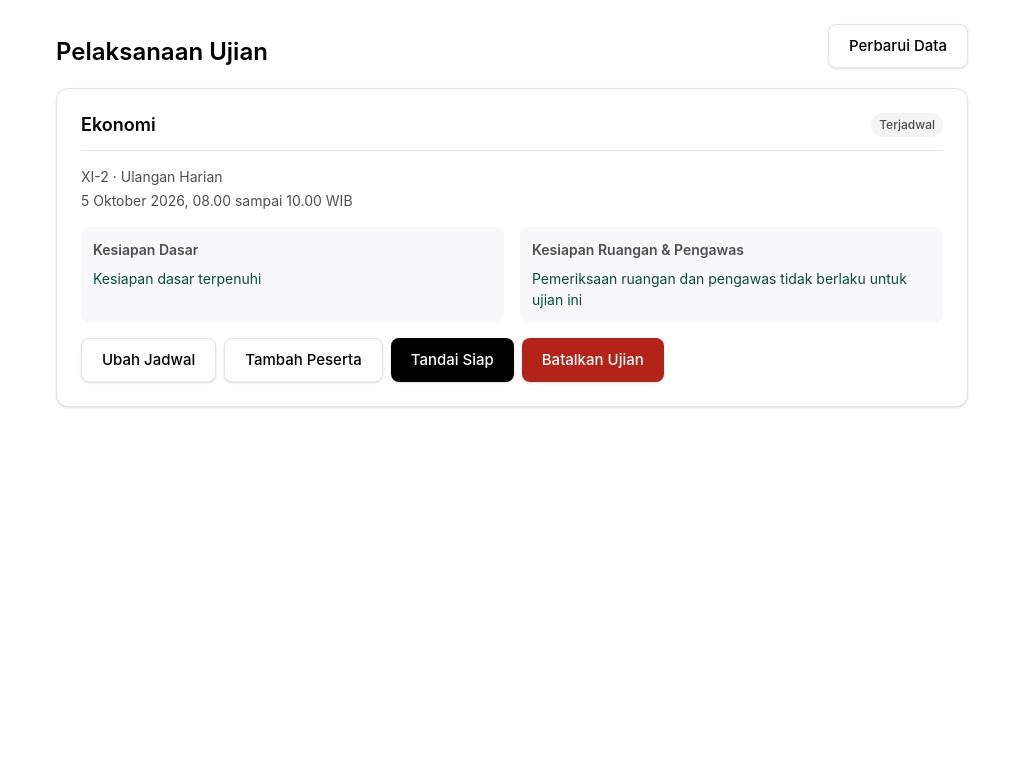
rescheduling on the teacher screen › explains every reason the server gives, keeps the dialog, and keeps the key for the next try
Click the button "Ubah Jadwal": (149, 360) left=81, top=338, right=216, bottom=382
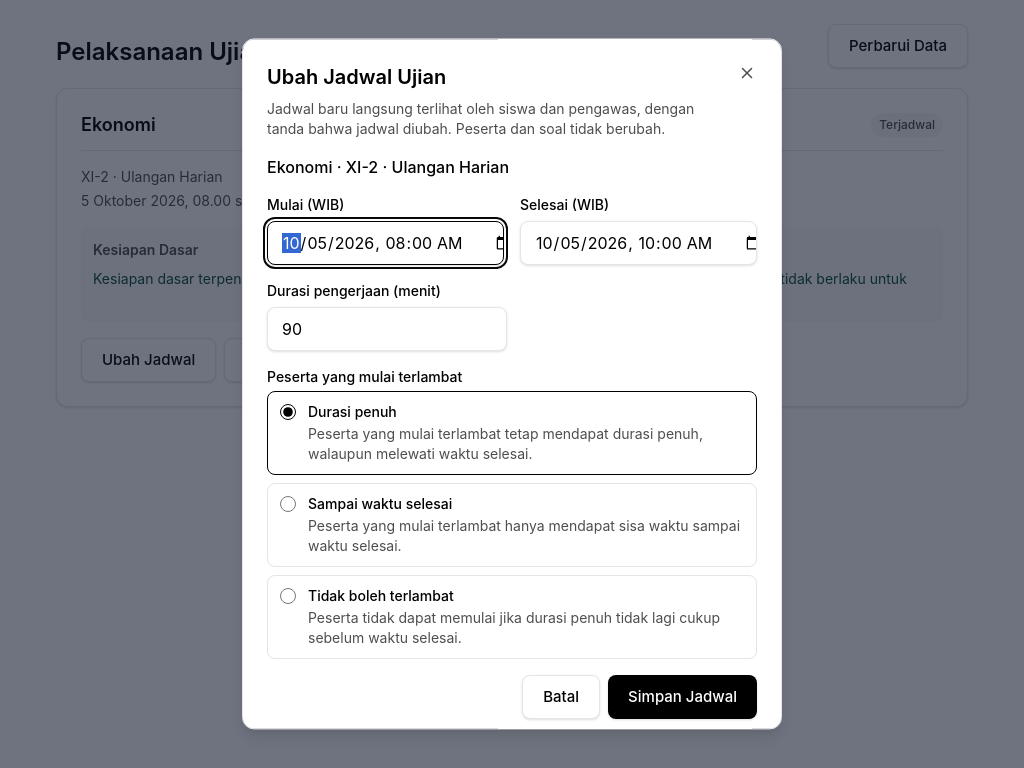
Click the button "Simpan Jadwal": (683, 697) left=608, top=675, right=757, bottom=719
(page scrolled)
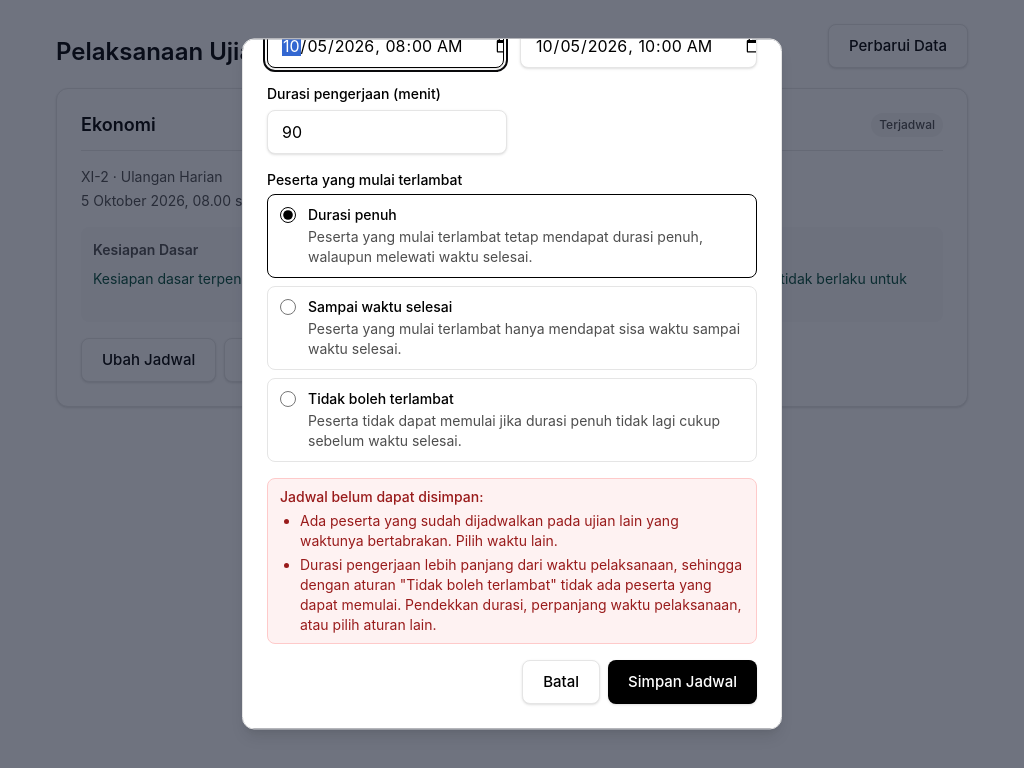
Expected: the list item "Ada peserta yang sudah dijadwalkan pada ujian lain yang waktunya bertabrakan. Pilih waktu lain." is shown, left=300, top=512, right=679, bottom=549
Expected: the list item "Durasi pengerjaan lebih panjang dari waktu pelaksanaan" is shown, left=300, top=556, right=742, bottom=633
Click the button "Simpan Jadwal": (683, 682) left=608, top=660, right=757, bottom=704
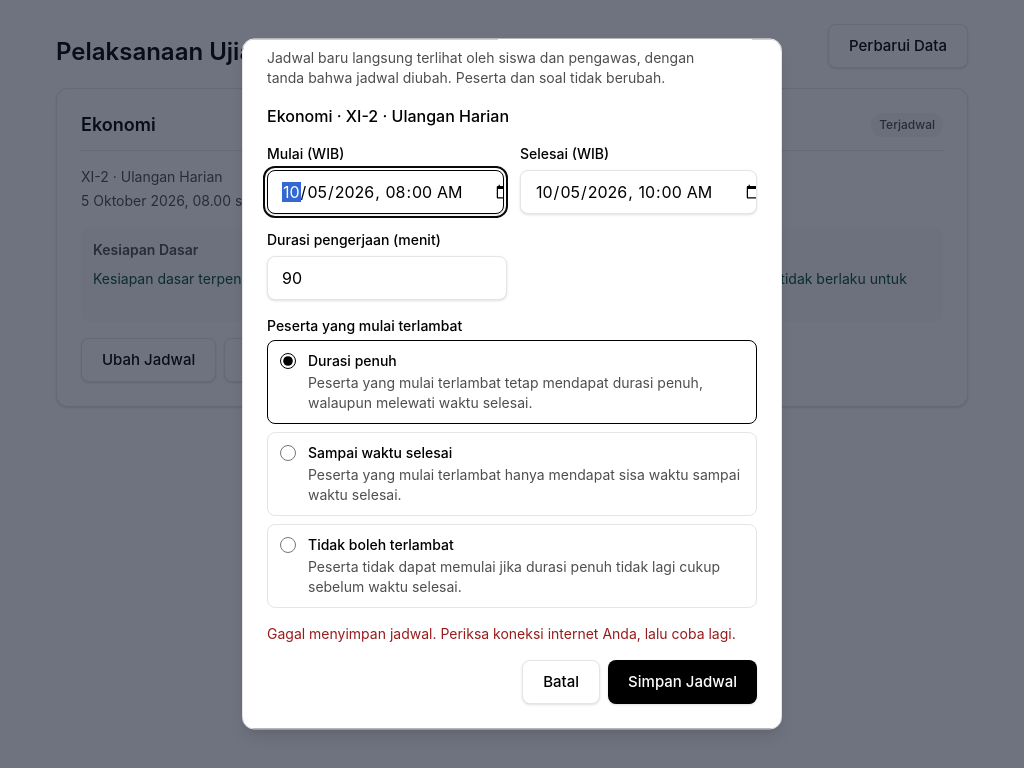
Expected: the text "Gagal menyimpan jadwal. Periksa koneksi internet Anda, lalu coba lagi." is shown, left=267, top=624, right=757, bottom=644
Click the button "Simpan Jadwal": (683, 682) left=608, top=660, right=757, bottom=704
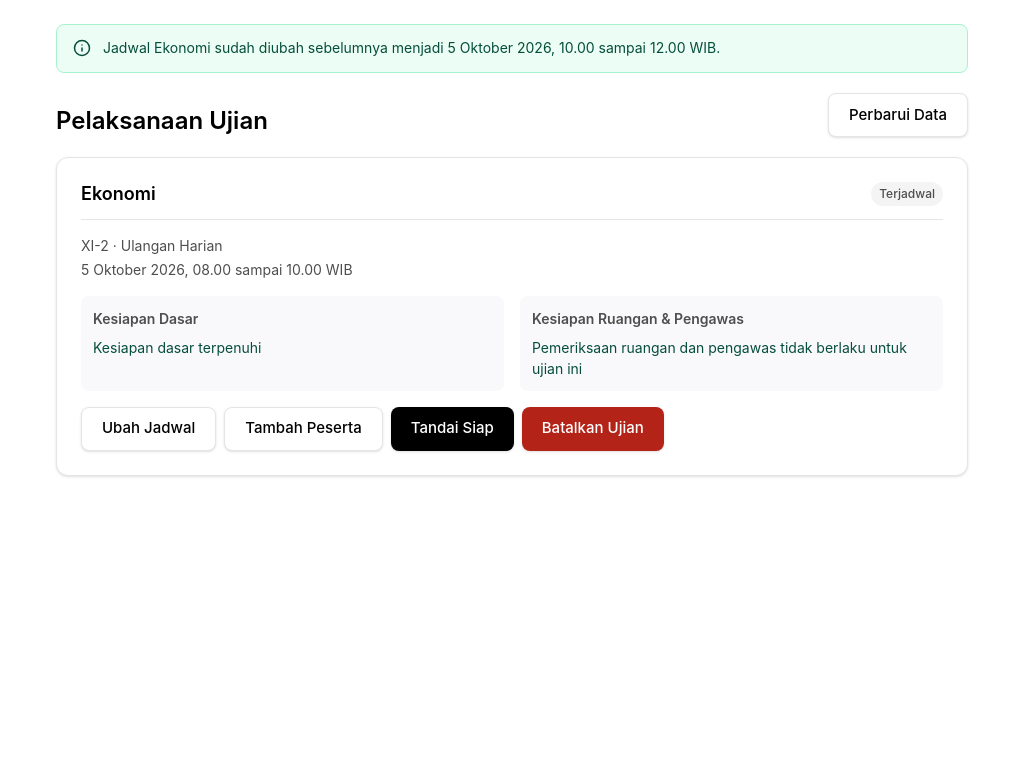
Expected: the text "Jadwal Ekonomi sudah diubah sebelumnya menjadi 5 Oktober 2026, 10.00 sampai 12.00 WIB." is shown, left=103, top=39, right=720, bottom=56
